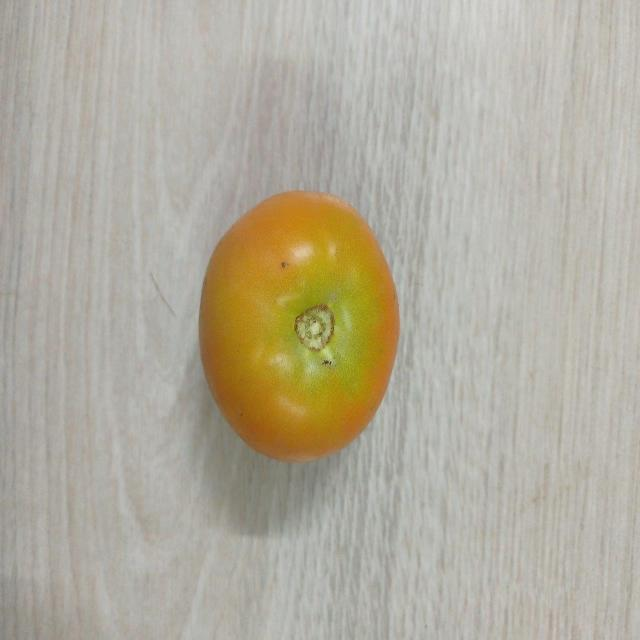Tomato: (196, 189, 402, 466)
